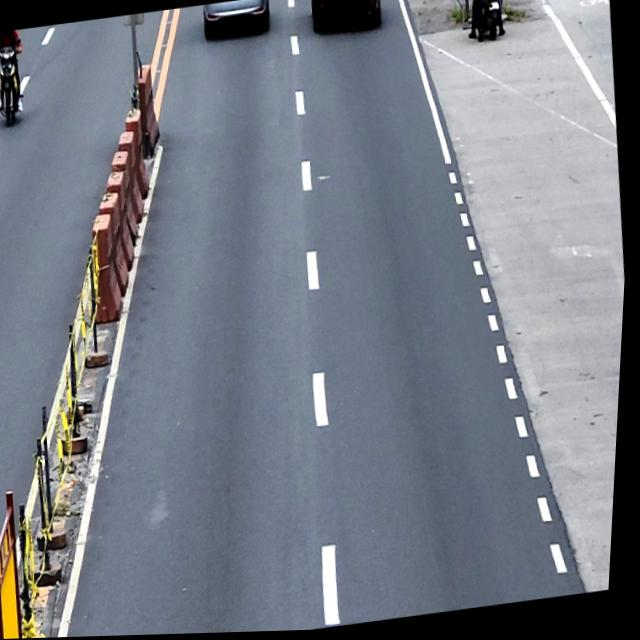Car: (201, 0, 272, 41), (308, 0, 384, 36)
Motorcycle: (0, 37, 29, 128)
